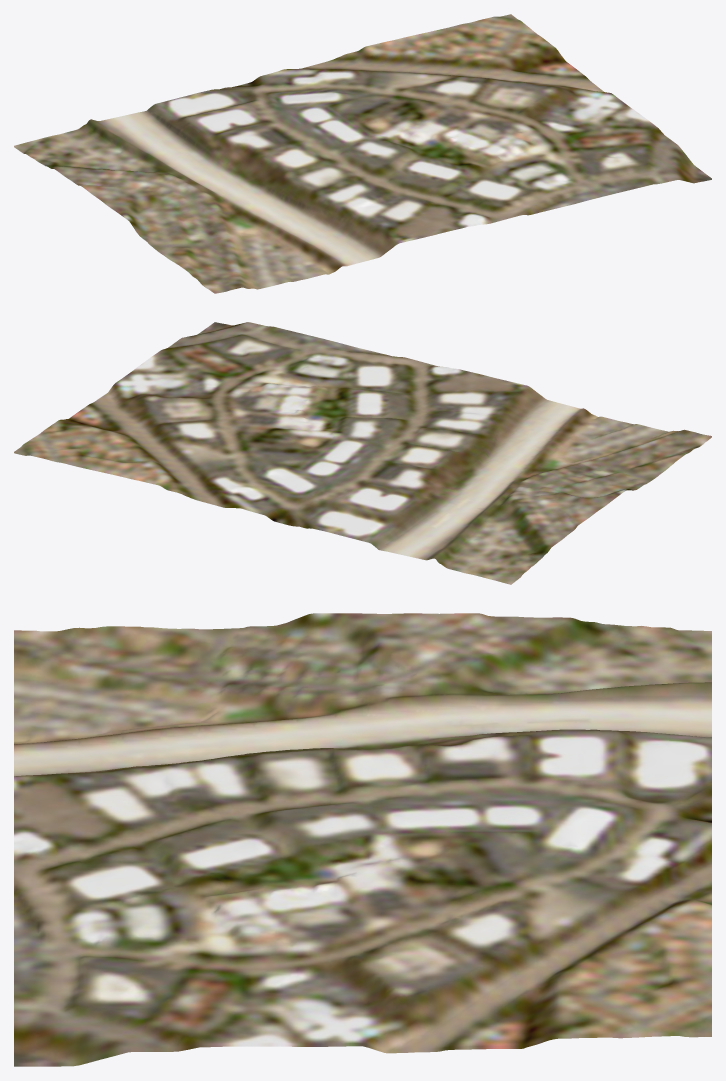
File: terrain_r7_c7.glb
The picture shows the model from 3 angles, top to bottom: view 1: azimuth 30°, elevation 25°; view 2: azimuth 150°, elevation 25°; view 3: azimuth 270°, elevation 25°; orthographic projection. The views are drawn at different scales.
Visible parts, largest first — view 1: terrain_r7_c7_lod0; view 2: terrain_r7_c7_lod0; view 3: terrain_r7_c7_lod0.
Boxes of the visible parts, left/top/right/bottom form: terrain_r7_c7_lod0: left=14, top=14, right=711, bottom=293; terrain_r7_c7_lod0: left=14, top=322, right=711, bottom=584; terrain_r7_c7_lod0: left=14, top=613, right=711, bottom=1066.
Bounding box in the file's own units: 1125 × 50.61 × 787.
Materials: 1 (1 with a texture image).
